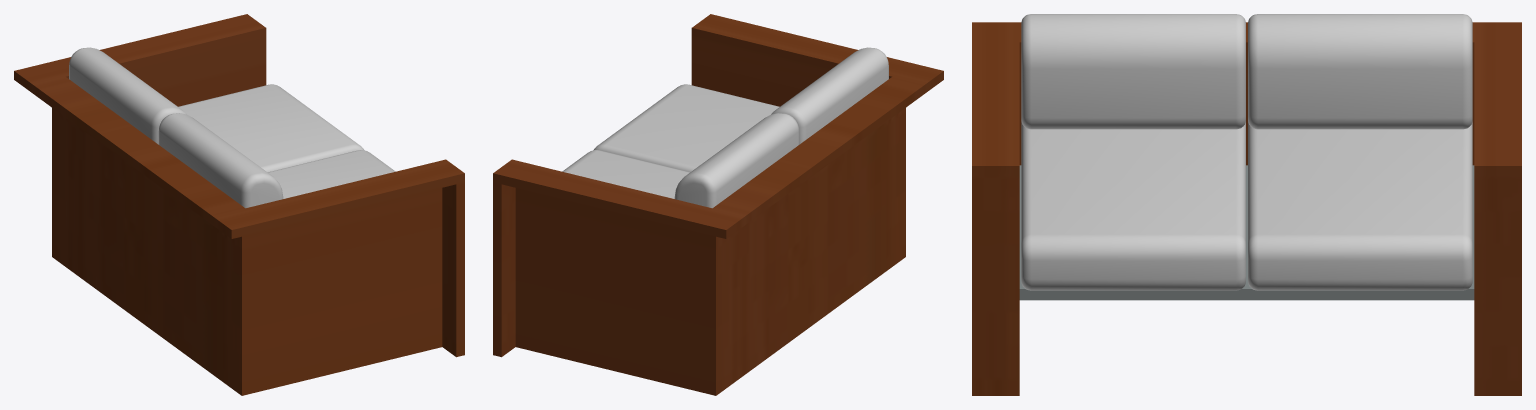
File: sofa-var-1.glb
3 renders of one model, left to right at view 1: azimuth 30°, elevation 25°; view 2: azimuth 150°, elevation 25°; view 3: azimuth 270°, elevation 25°, orthographic. The views are drawn at different scales.
Visible parts, largest first — view 1: ソファ 4, ソファ, ソファ 5, ソファ 6, ソファ 2; view 2: ソファ 4, ソファ 2, ソファ 6, ソファ 5, ソファ; view 3: ソファ 4, ソファ, ソファ 2, ソファ 5, ソファ 6, ソファ 3.
Part boxes in pixels (bbox=[...]): ソファ 4: bbox=[14, 14, 464, 395]; ソファ: bbox=[178, 84, 364, 172]; ソファ 5: bbox=[158, 113, 283, 208]; ソファ 6: bbox=[69, 47, 186, 144]; ソファ 2: bbox=[268, 150, 395, 198]; ソファ 4: bbox=[493, 14, 943, 395]; ソファ 2: bbox=[593, 84, 779, 172]; ソファ 6: bbox=[674, 113, 799, 208]; ソファ 5: bbox=[771, 47, 888, 144]; ソファ: bbox=[562, 150, 689, 198]; ソファ 4: bbox=[972, 22, 1521, 395]; ソファ: bbox=[1248, 121, 1472, 290]; ソファ 2: bbox=[1021, 121, 1245, 290]; ソファ 5: bbox=[1021, 14, 1245, 129]; ソファ 6: bbox=[1248, 14, 1472, 129]; ソファ 3: bbox=[1019, 165, 1474, 300].
Bounding box in the file's own units: 18.22 × 14.8 × 27.81.
3 materials, 1 textured.
